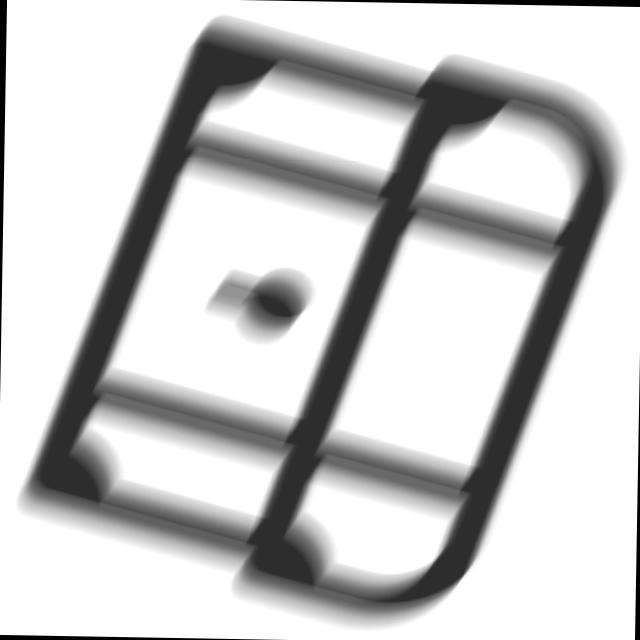treasure_box: (18, 1, 638, 635)
